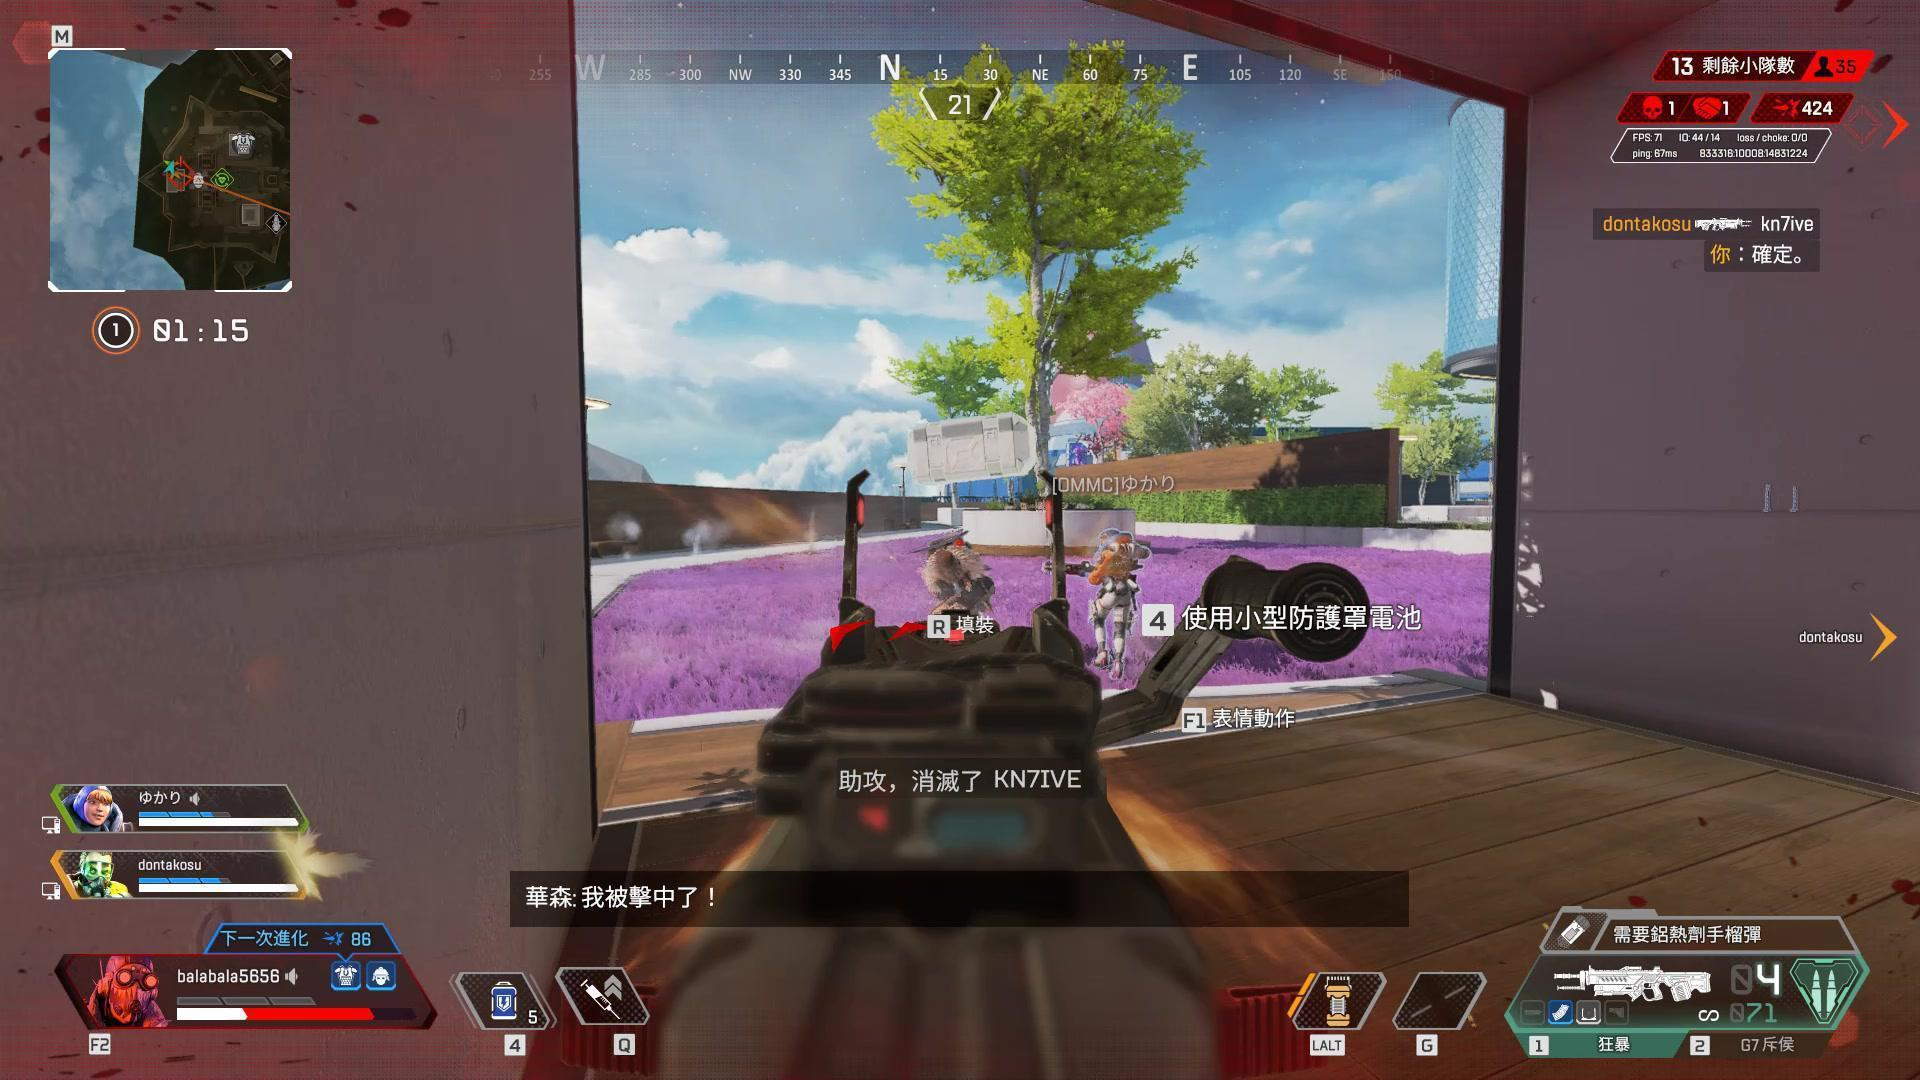avatar: (1087, 524, 1143, 684)
